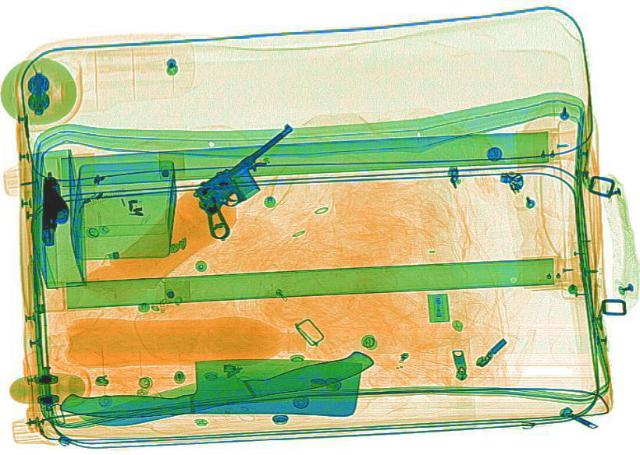Gun: (162, 123, 344, 240), (34, 175, 70, 244)
Knife: (73, 345, 379, 432), (54, 353, 366, 421)
